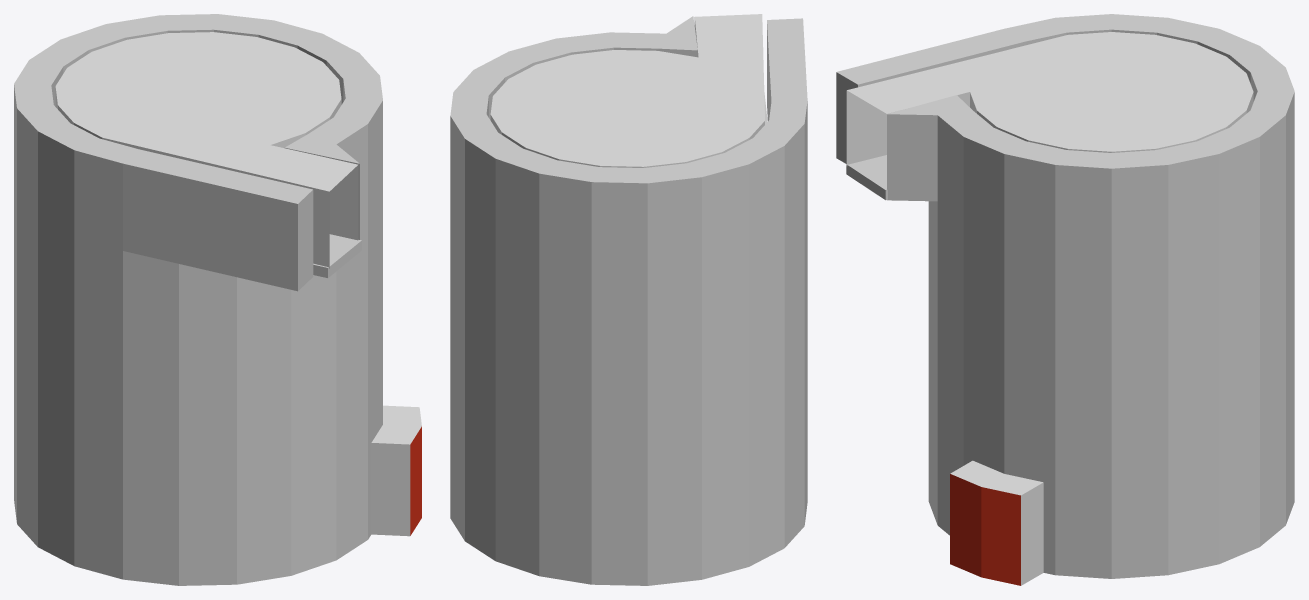
The model's file is stairKit.fbx.
The picture shows the model from 3 angles, left to right: view 1: azimuth 30°, elevation 25°; view 2: azimuth 150°, elevation 25°; view 3: azimuth 270°, elevation 25°; orthographic projection. The views are drawn at different scales.
Parts seen in each view (by area): view 1: Perimeter, Walls, Stairs; view 2: Perimeter, Walls; view 3: Perimeter, Walls, Stairs.
Boxes of the visible parts, x1,y1,x2,y2 form: Perimeter: (14, 14, 382, 585); Walls: (55, 32, 421, 536); Stairs: (313, 234, 361, 277); Perimeter: (450, 16, 807, 585); Walls: (490, 14, 764, 167); Perimeter: (836, 14, 1294, 578); Walls: (846, 32, 1253, 585); Stairs: (846, 155, 887, 200).
Bounding box in the file's own units: 1534 × 1829 × 1839.
